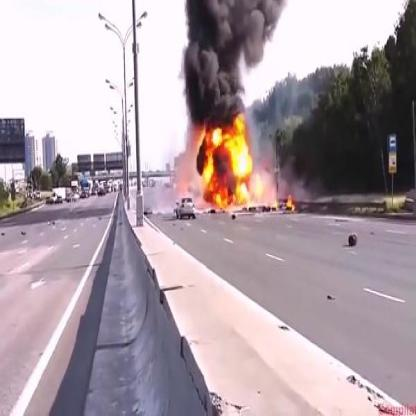fire: (194, 115, 265, 214), (285, 192, 297, 213), (270, 193, 280, 209)
